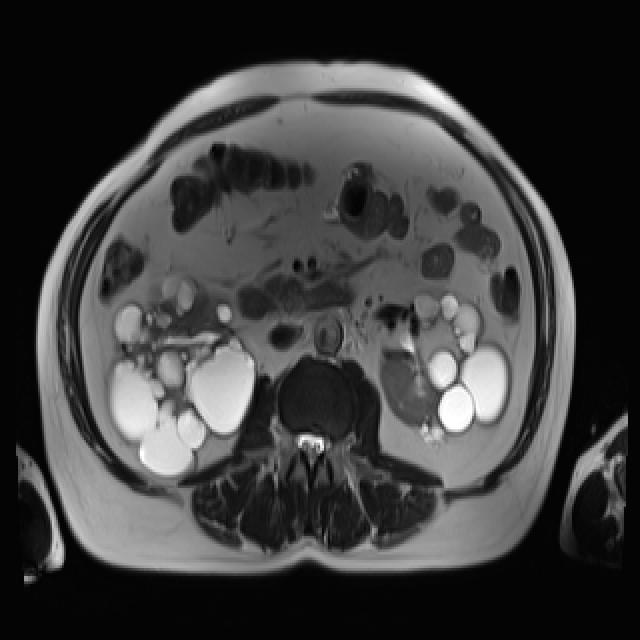sag: (103, 271, 254, 478)
sol: (381, 284, 511, 446)
